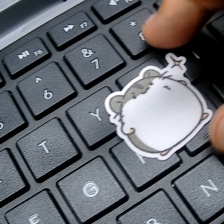mouse: (101, 51, 218, 164)
